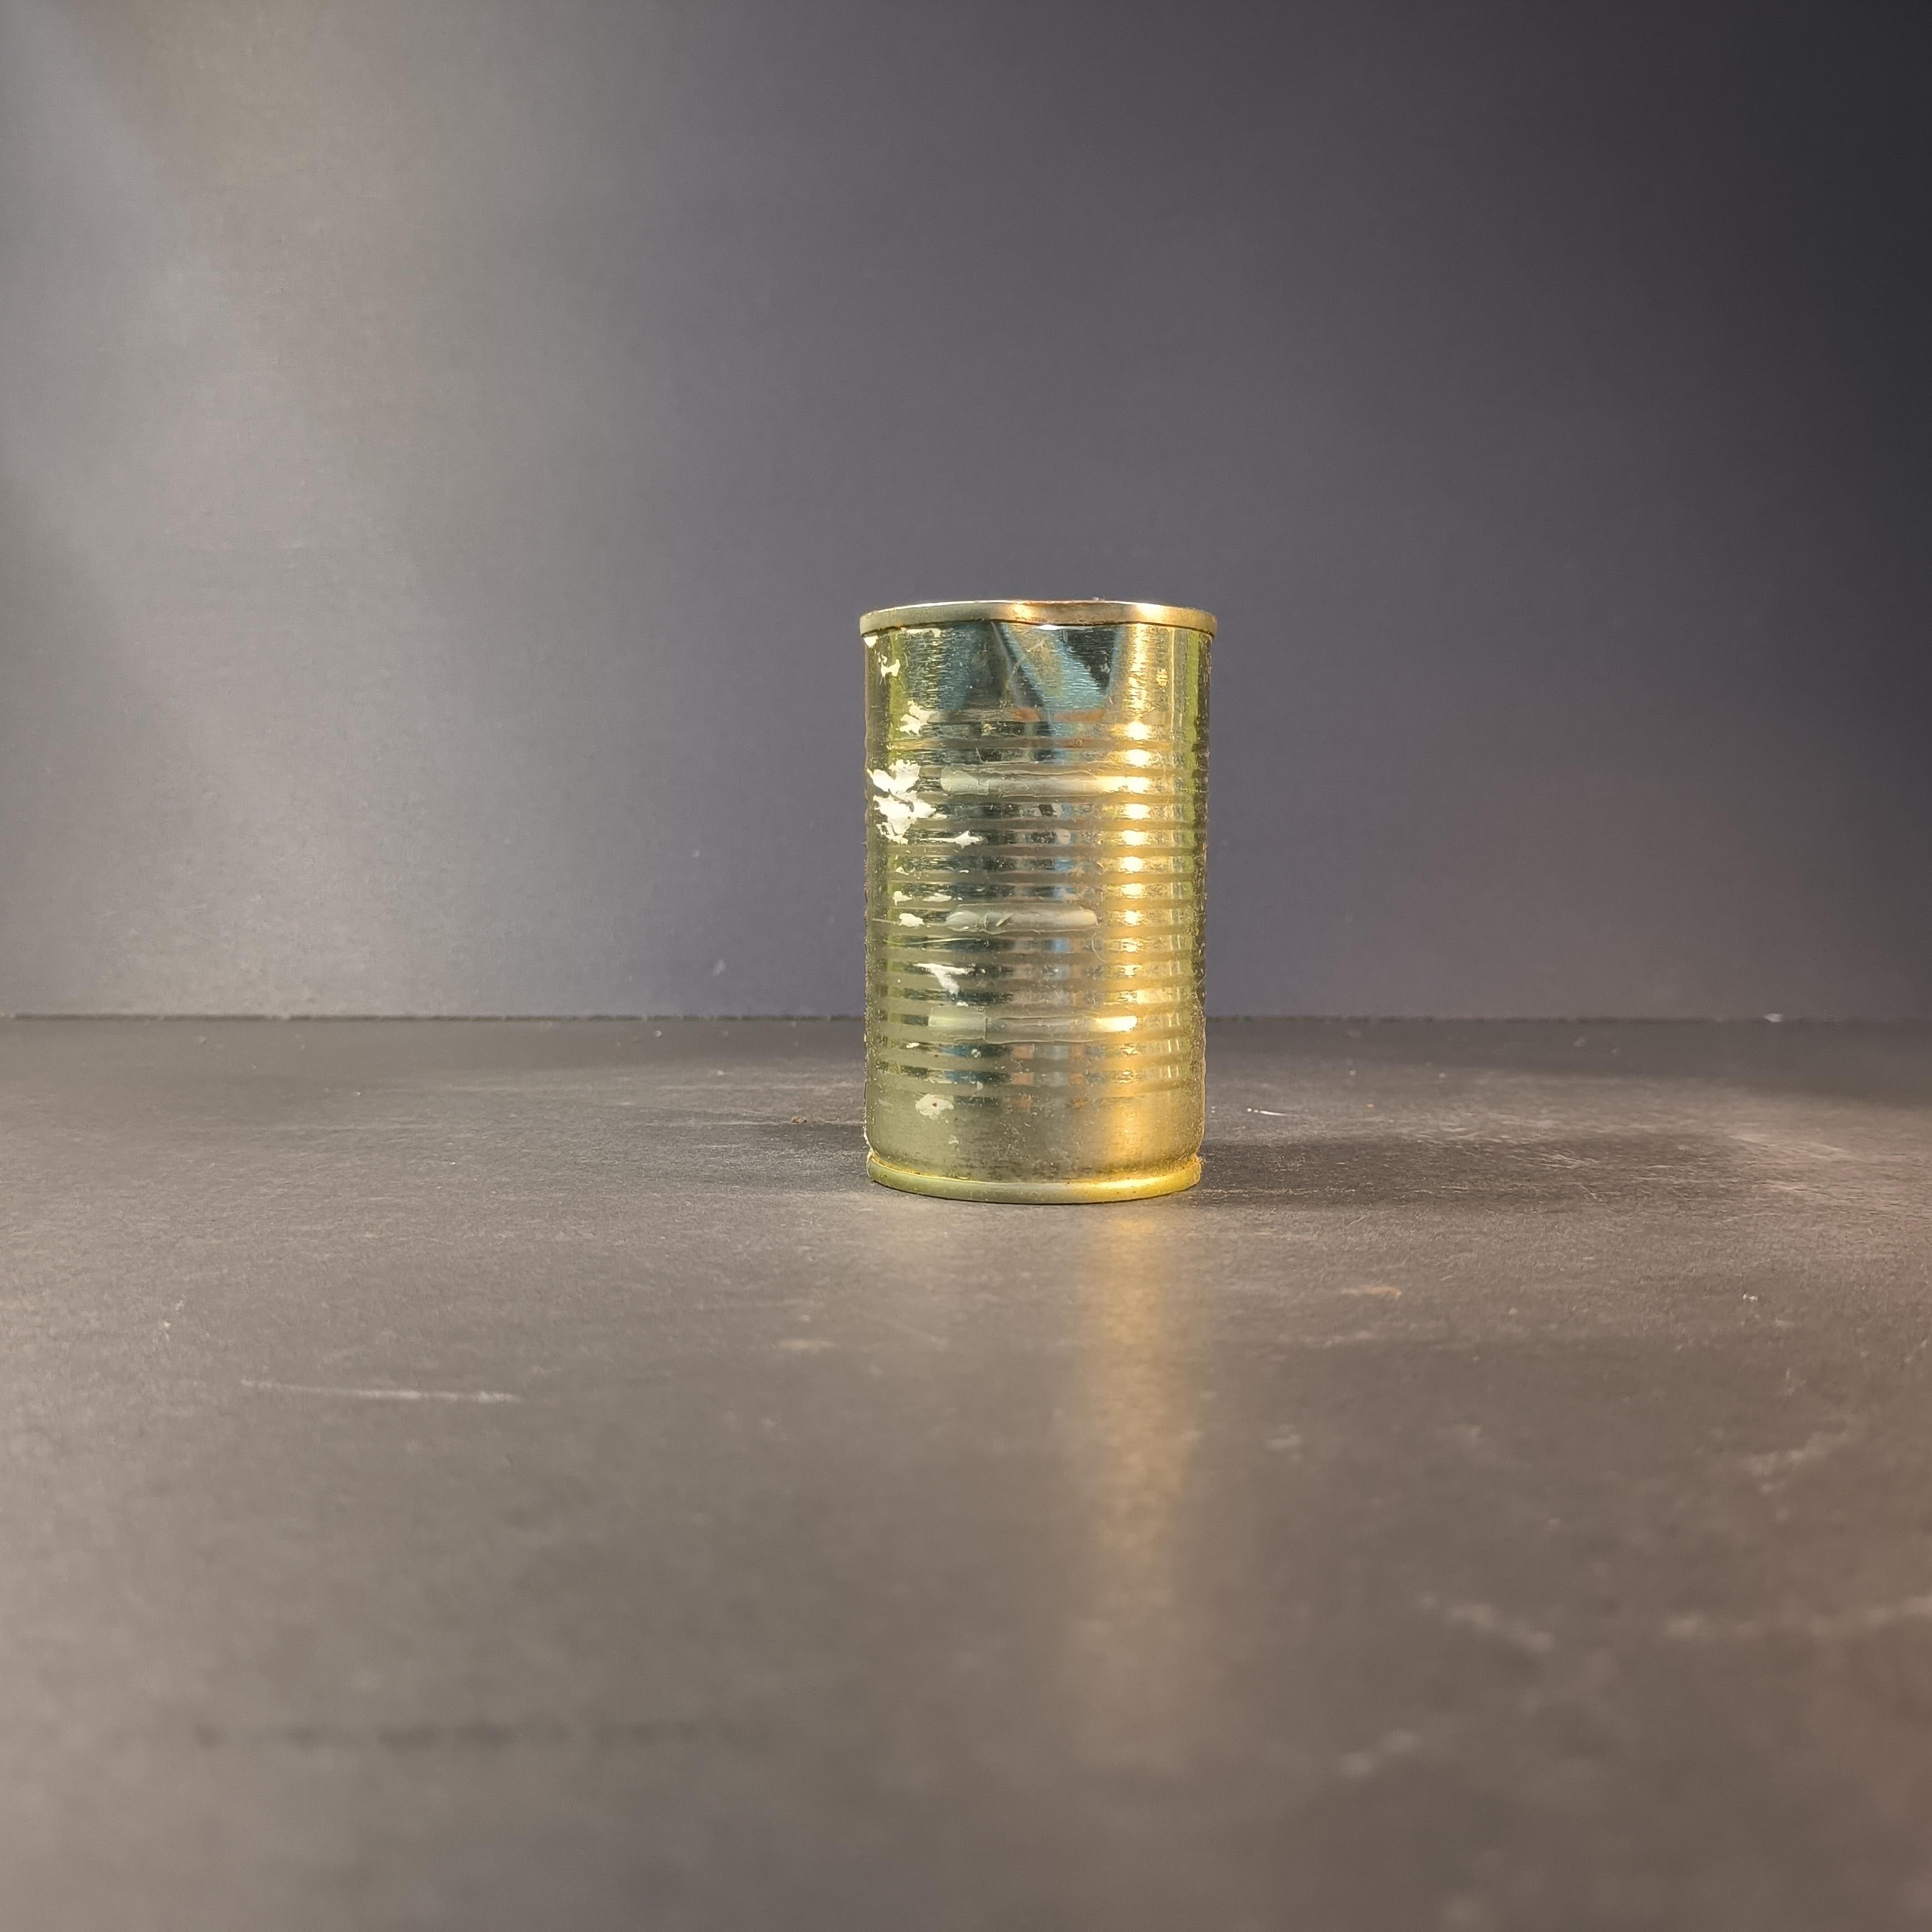Dented: (835, 582, 1244, 1214)
